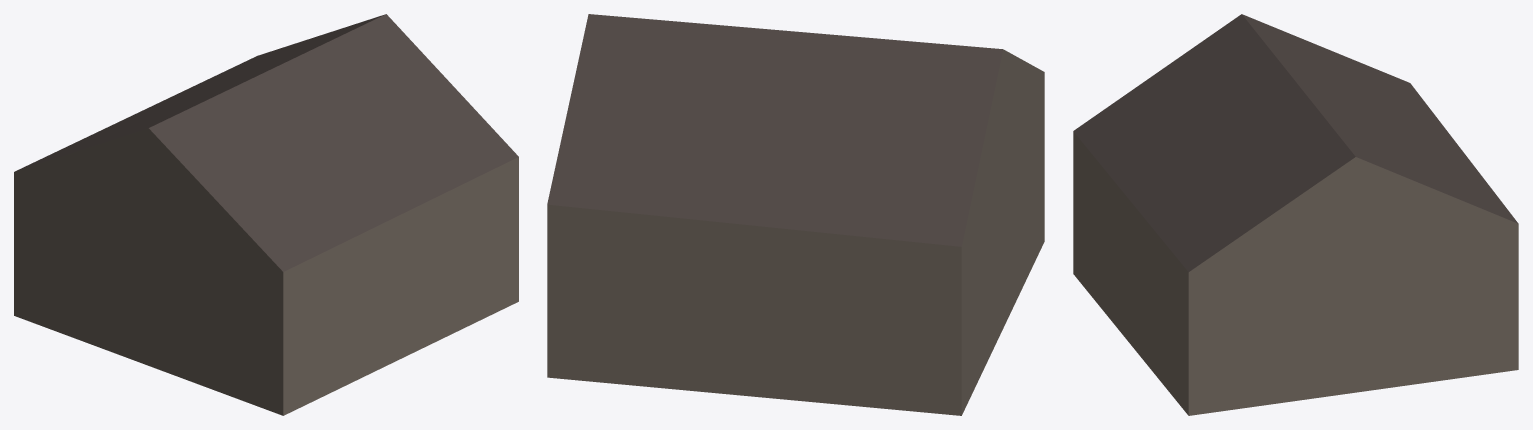
3 renders of one model, left to right at view 1: azimuth 30°, elevation 25°; view 2: azimuth 150°, elevation 25°; view 3: azimuth 270°, elevation 25°, orthographic. The views are drawn at different scales.
Parts seen in each view (by area): view 1: HP-w776801033; view 2: HP-w776801033; view 3: HP-w776801033.
Boxes of the visible parts, x1,y1,x2,y2 form: HP-w776801033: (14,14,518,415); HP-w776801033: (547,14,1044,415); HP-w776801033: (1073,14,1518,415).
Size of the model in its own units: 17.16 by 9.91 by 16.99.
